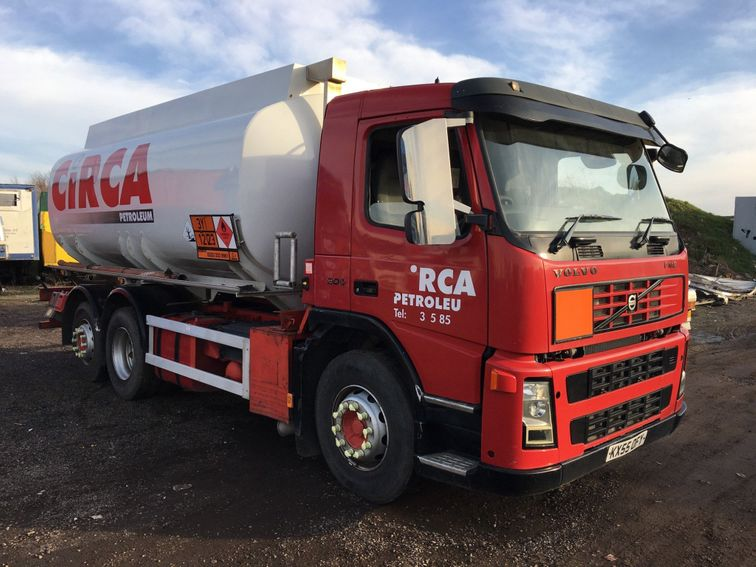Semi: (46, 58, 696, 505)
